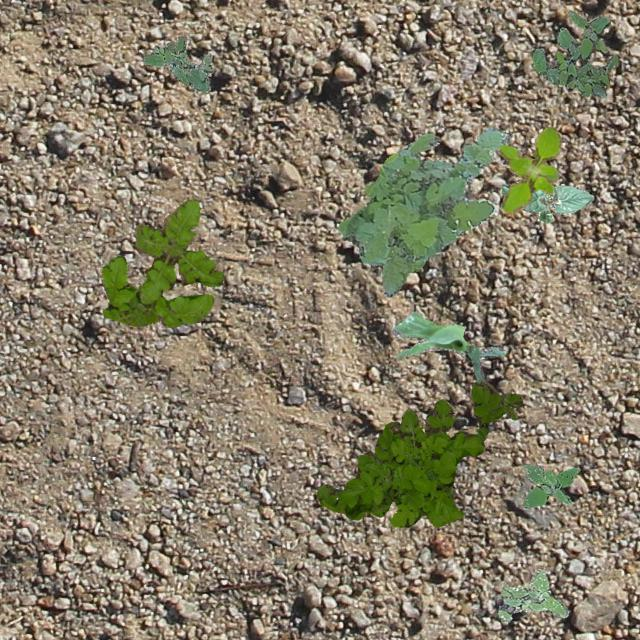crop: (392, 310, 504, 382), (500, 182, 592, 222)
weed: (336, 126, 509, 296), (316, 382, 506, 526), (101, 198, 222, 326), (530, 10, 616, 96), (498, 125, 560, 212), (497, 564, 568, 622), (142, 34, 210, 92), (520, 462, 578, 507), (479, 381, 521, 418)
